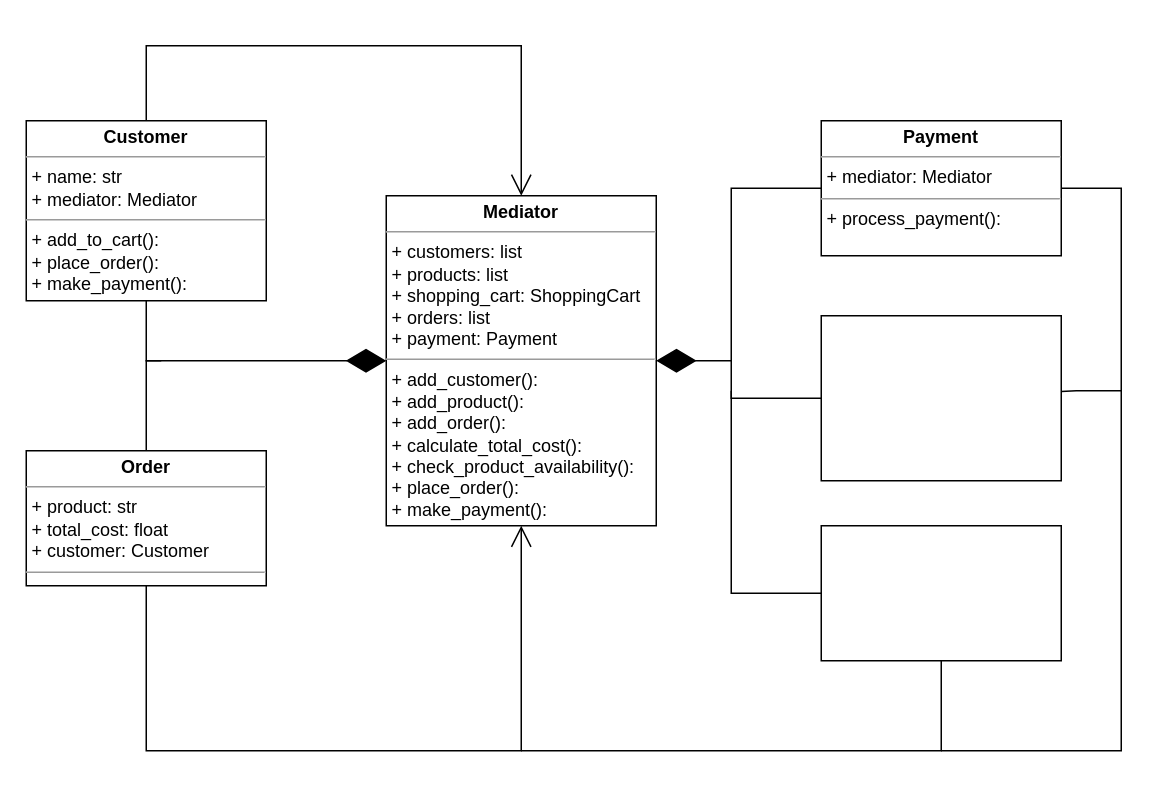
The diagram is 1149 pixels wide and 798 high, and some of its shapes have lost their labels. Here are the shapes that lost their labels. From the top down, the box of each, then its label:
(820, 314, 1061, 481): ShoppingCart + product : list + mediator: Mediator + add_product (): + clear ():
(820, 524, 1061, 661): Product + name: str + price: float + mediator: Mediator
